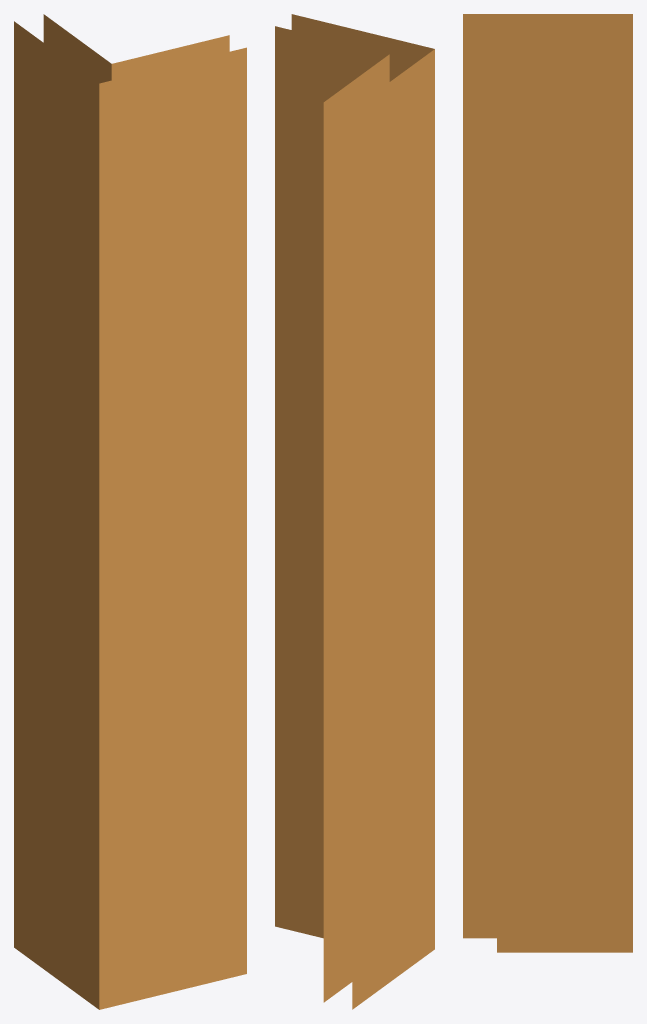
Rendered from Modular_Inside_L.fbx.
3 views of the same model, side by side, from view 1: azimuth 30°, elevation 25°; view 2: azimuth 150°, elevation 25°; view 3: azimuth 270°, elevation 25° (orthographic). The views are drawn at different scales.
Visible parts, largest first — view 1: Modular_Inside_L; view 2: Modular_Inside_L; view 3: Modular_Inside_L.
Part boxes in pixels (bbox=[...]): Modular_Inside_L: bbox=[14, 14, 246, 1009]; Modular_Inside_L: bbox=[275, 14, 434, 1009]; Modular_Inside_L: bbox=[463, 14, 632, 952].
Bounding box in the file's own units: 50 × 300 × 50.
